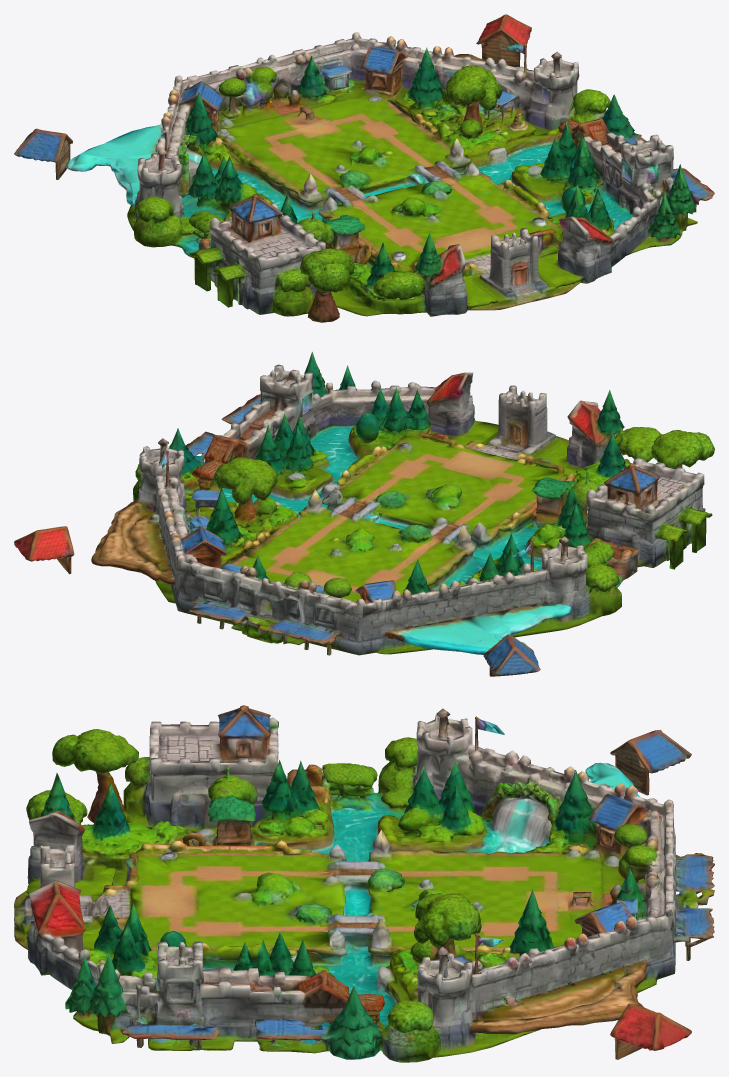
File: Arena.glb
3 views of the same model, one above another, from view 1: azimuth 30°, elevation 25°; view 2: azimuth 150°, elevation 25°; view 3: azimuth 270°, elevation 25° (orthographic). The views are drawn at different scales.
Size of the model in its own units: 1.9 by 0.2989 by 1.8.
1 material, 1 textured.
